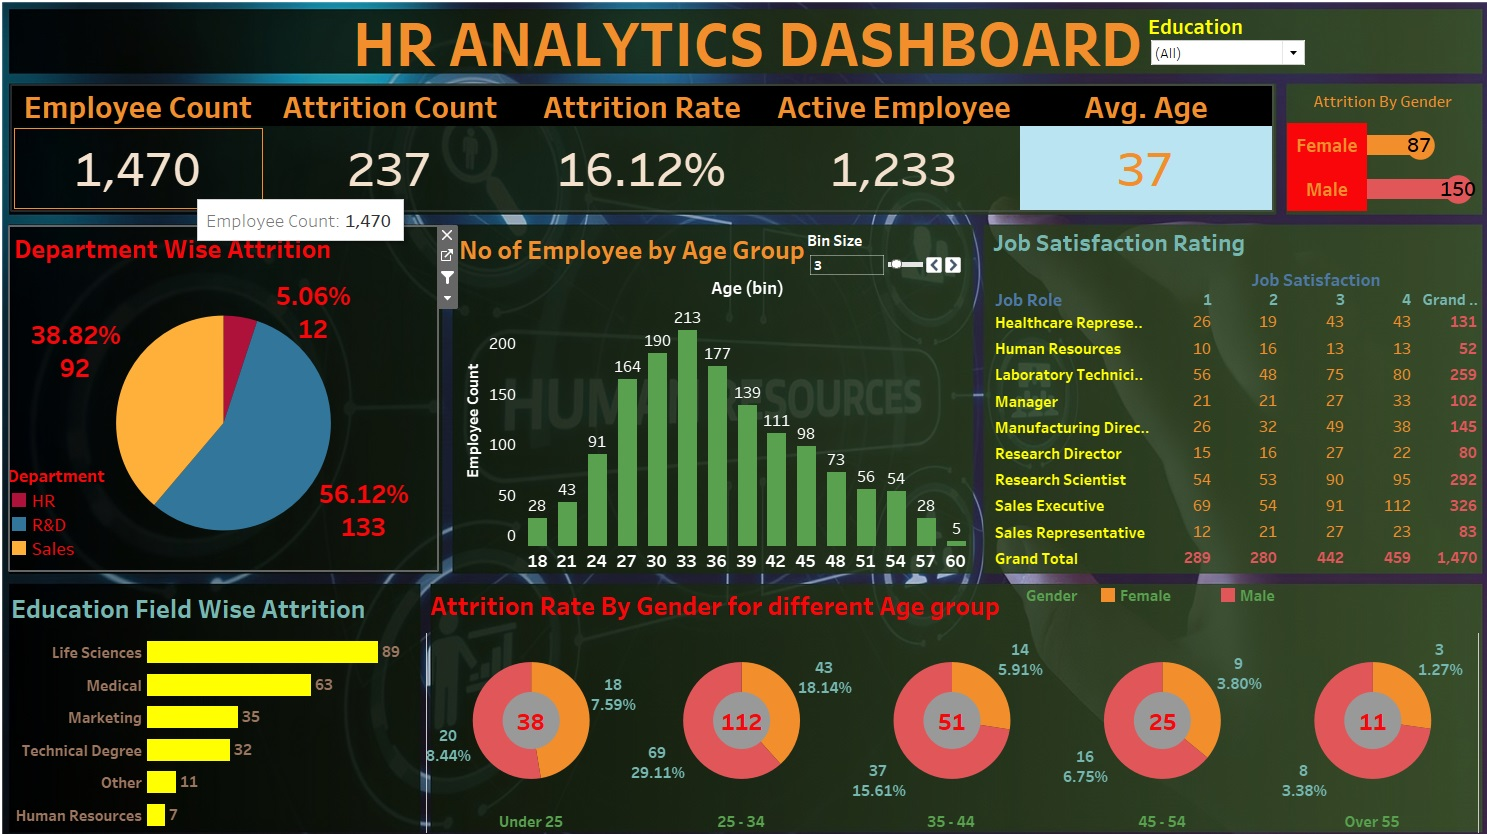

The page's visual inventory and layout, read from the dashboard file:
{"tool":"tableau","page":{"name":"HR Analysis","canvas":[1000,1000],"units":"permille","ordinal":0},"visuals":[{"type":"image","param":"Image/HR_background_(1)-transformed.png","box":[46.5,21.2,952.3,982.4]},{"type":"text","box":[53.1,27,886.5,79.9]},{"type":"filter","title":"Department wise Attrition","param":"[federated.0x5chyk1a296ph1ewieei157r72z].[none:Education:nk]","box":[738.1,32.9,96.6,63.5]},{"type":"worksheet","title":"KPI","mark":"Automatic","box":[52.5,119.9,760.4,145.7]},{"type":"worksheet","title":"Attrition by Gender","mark":"Automatic","rows":["Gender"],"cols":["Calculation_1412441500037115904","Calculation_1412441500037115904"],"box":[822,121,115.3,145.7]},{"type":"worksheet","title":"Job Satisfaction Rating ","mark":"Automatic","rows":["Job Role"],"cols":["Job Satisfaction"],"box":[642.1,279.7,297.5,410.1]},{"type":"worksheet","title":"Department wise Attrition","mark":"Pie","box":[51.3,285.6,257.7,403.1]},{"type":"worksheet","title":"No of Employee by Age Group","mark":"Automatic","rows":["Employee Count"],"cols":["Age (bin)"],"box":[319.9,286.7,311.4,405.4]},{"type":"parameter","param":"[Parameters].[Parameter 1]","box":[532.3,289.1,94.8,71.7]},{"type":"legend","title":"Department wise Attrition","param":"[federated.0x5chyk1a296ph1ewieei157r72z].[none:Department:nk]","box":[49.5,564,70,124.6]},{"type":"worksheet","title":"Attrition Rate By Gender for different Age group","mark":"Pie","rows":["Calculation_1412441500085186565","Calculation_1412441500085186565"],"cols":["CF_age band"],"box":[302.4,705.1,635.5,293.8]},{"type":"legend","title":"Attrition Rate By Gender for different Age group","param":"[federated.0x5chyk1a296ph1ewieei157r72z].[none:Gender:nk]","box":[664.5,706.2,268.6,47]},{"type":"worksheet","title":"Education Field Wise Attrition","mark":"Automatic","rows":["Education Field"],"cols":["Calculation_1412441500037115904"],"box":[49.5,708.6,247.4,286.7]}]}

Visuals, with their boxes on the dashboard's canvas, which has no fixed pixel size, in thousandths of its width and height (x1, y1, x2, y2). These are canvas units, not pixel positions in the 1487x834 screenshot, which may show the page scaled, cropped or inside an application window:
image: {"x1": 46, "y1": 21, "x2": 999, "y2": 1004}
text: {"x1": 53, "y1": 27, "x2": 940, "y2": 107}
"Department wise Attrition" filter: {"x1": 738, "y1": 33, "x2": 835, "y2": 96}
"KPI" worksheet: {"x1": 52, "y1": 120, "x2": 813, "y2": 266}
"Attrition by Gender" worksheet: {"x1": 822, "y1": 121, "x2": 937, "y2": 267}
"Job Satisfaction Rating " worksheet: {"x1": 642, "y1": 280, "x2": 940, "y2": 690}
"Department wise Attrition" worksheet (Pie marks): {"x1": 51, "y1": 286, "x2": 309, "y2": 689}
"No of Employee by Age Group" worksheet: {"x1": 320, "y1": 287, "x2": 631, "y2": 692}
parameter: {"x1": 532, "y1": 289, "x2": 627, "y2": 361}
"Department wise Attrition" legend: {"x1": 50, "y1": 564, "x2": 120, "y2": 689}
"Attrition Rate By Gender for different Age group" worksheet (Pie marks): {"x1": 302, "y1": 705, "x2": 938, "y2": 999}
"Attrition Rate By Gender for different Age group" legend: {"x1": 664, "y1": 706, "x2": 933, "y2": 753}
"Education Field Wise Attrition" worksheet: {"x1": 50, "y1": 709, "x2": 297, "y2": 995}
